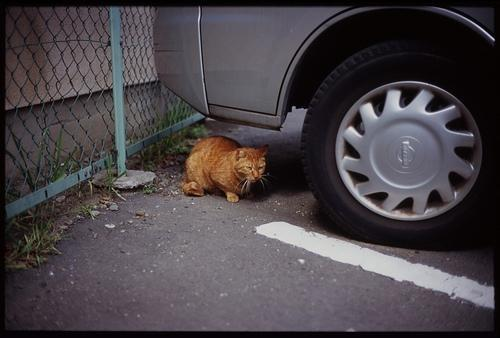car: (151, 3, 500, 250)
